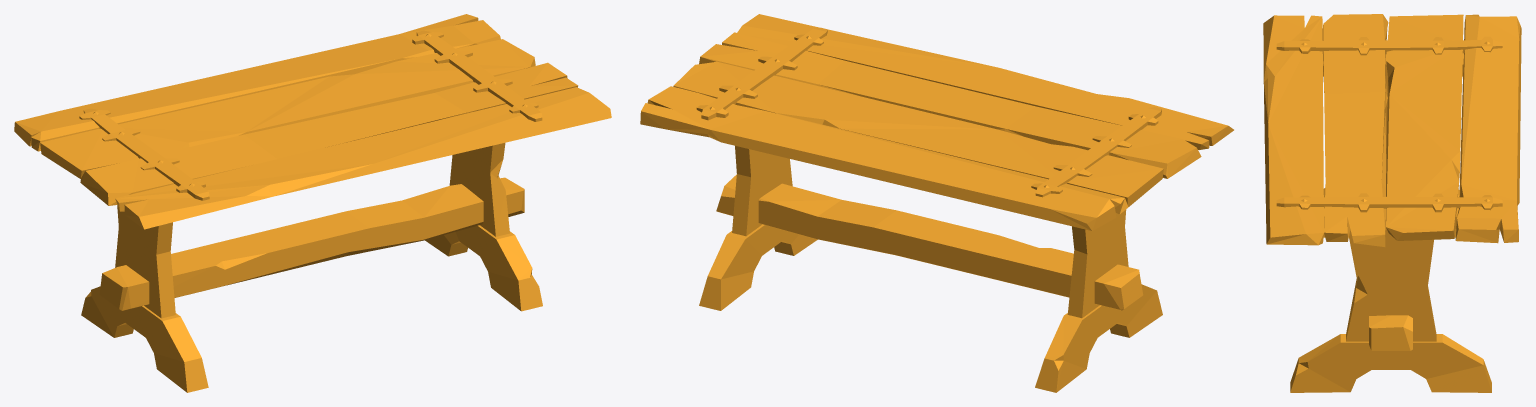
Rendered from SM_Table_Simple_B_Fantasy.fbx.
The picture shows the model from 3 angles, left to right: view 1: azimuth 30°, elevation 25°; view 2: azimuth 150°, elevation 25°; view 3: azimuth 270°, elevation 25°; orthographic projection. The views are drawn at different scales.
Visible parts, largest first — view 1: table-simple-b-fantasy; view 2: table-simple-b-fantasy; view 3: table-simple-b-fantasy.
Boxes of the visible parts, left/top/right/bottom form: table-simple-b-fantasy: left=14, top=14, right=611, bottom=392; table-simple-b-fantasy: left=640, top=14, right=1233, bottom=392; table-simple-b-fantasy: left=1263, top=14, right=1521, bottom=392.
Size of the model in its own units: 2 by 0.8184 by 0.9957.
